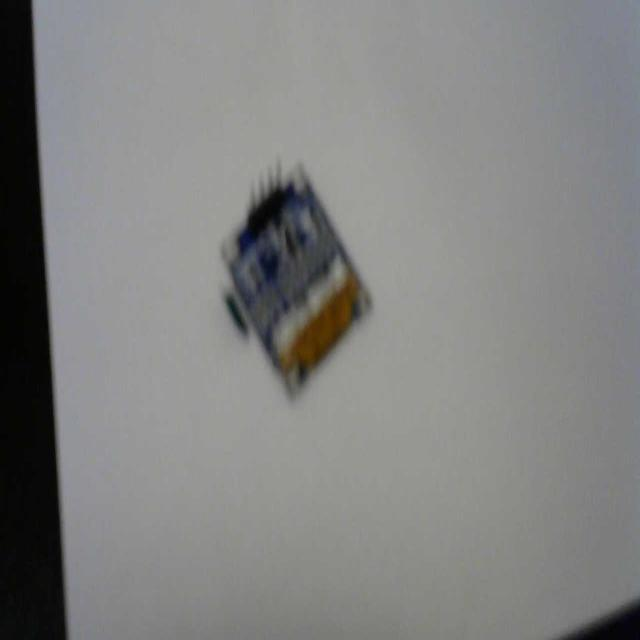oled: (218, 151, 376, 397)
